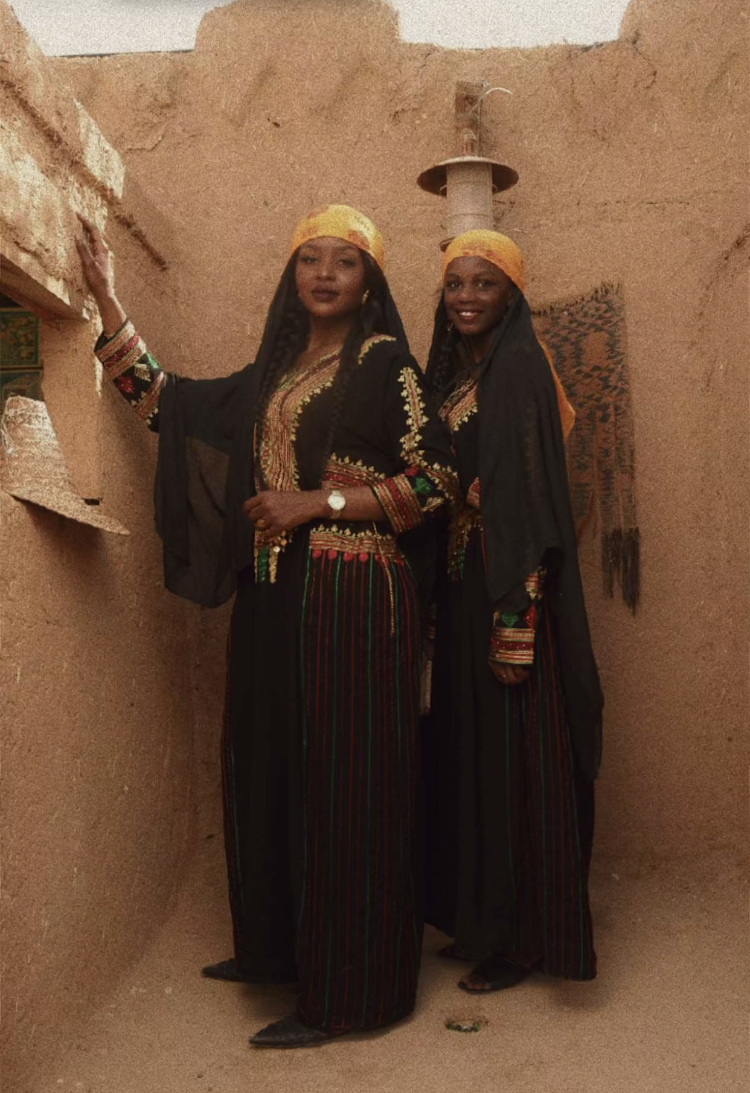Saudi_Founding_Day: (71, 197, 467, 1054), (414, 224, 611, 996)
